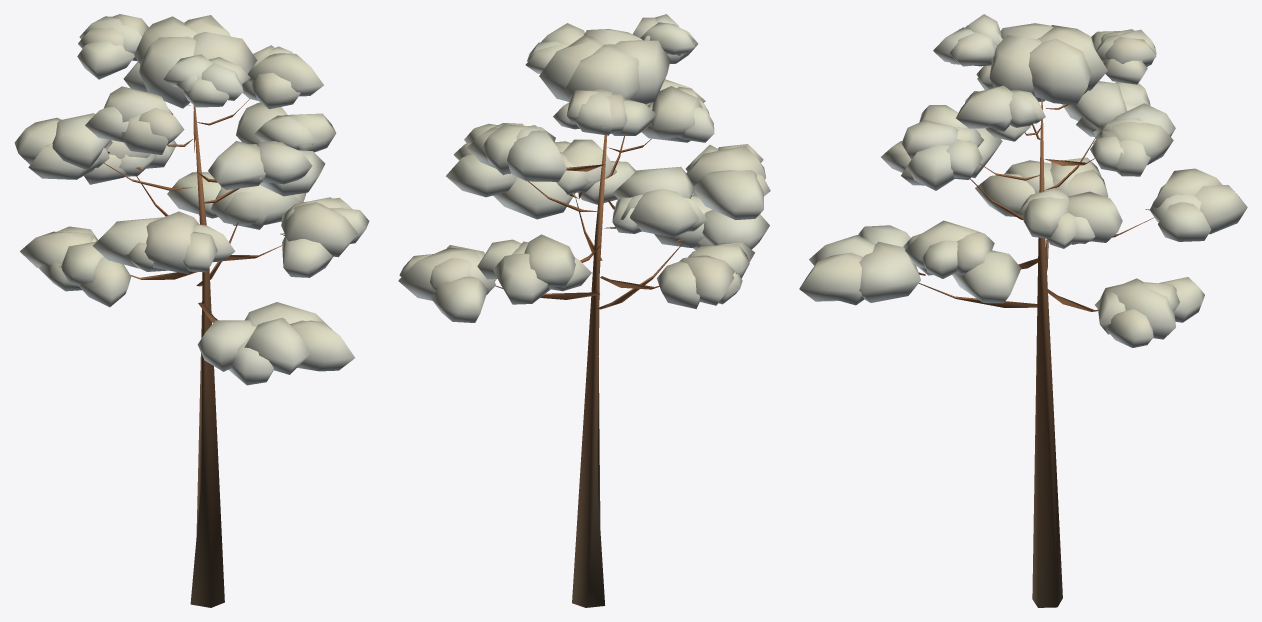
3 views of the same model, side by side, from view 1: azimuth 30°, elevation 25°; view 2: azimuth 150°, elevation 25°; view 3: azimuth 270°, elevation 25° (orthographic). The views are drawn at different scales.
Visible parts, largest first — view 1: crown, trunk; view 2: crown, trunk; view 3: crown, trunk.
Part boxes in pixels (<box>): crown: <box>14,14,369,385</box>; trunk: <box>104,99,285,607</box>; crown: <box>398,14,770,322</box>; trunk: <box>495,135,694,607</box>; crown: <box>799,14,1247,347</box>; trunk: <box>918,90,1154,607</box>.
Size of the model in its own units: 9.68 by 17.46 by 12.68.
